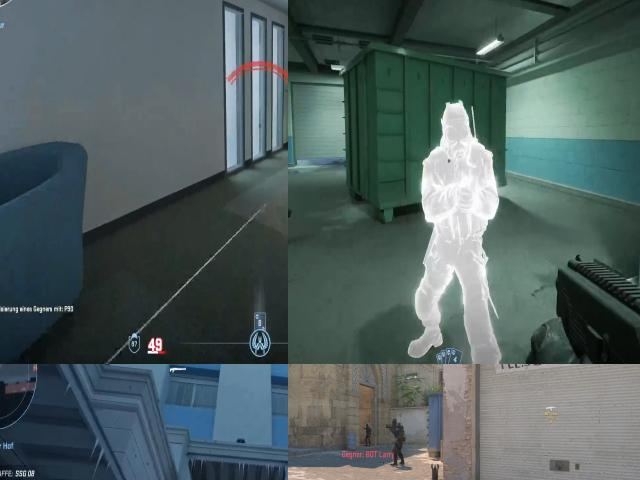CT: (390, 418, 404, 466), (365, 423, 371, 446)
CT-Head: (392, 418, 398, 425), (366, 424, 369, 428)
